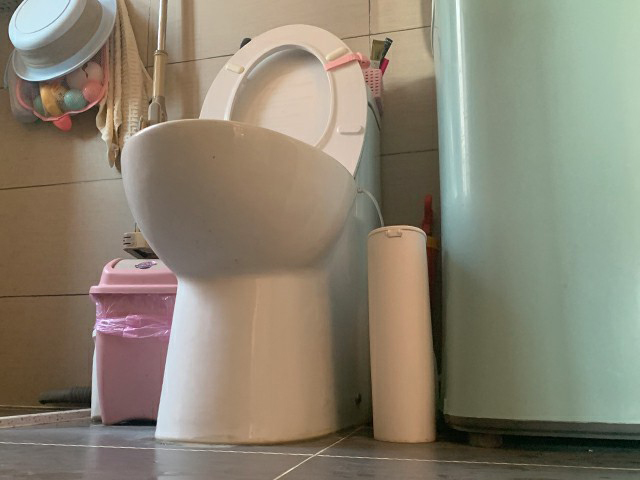closestool: (120, 23, 383, 446)
trashcan: (87, 256, 179, 426)
